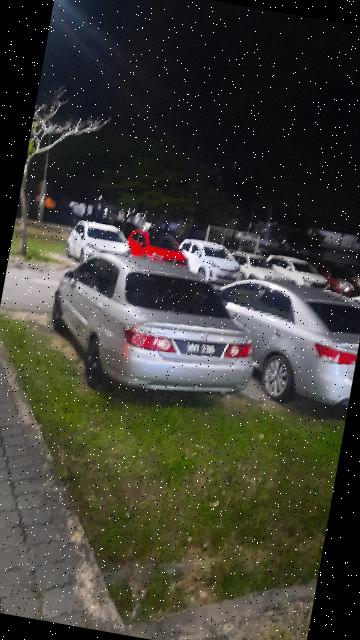License_Plate: (169, 333, 229, 363)
car: (39, 244, 269, 416), (199, 270, 360, 414), (174, 238, 249, 290), (65, 219, 136, 272), (125, 227, 193, 279), (228, 251, 297, 293)
